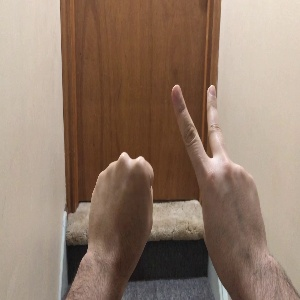hand: (171, 85, 268, 256), (89, 153, 153, 256)
